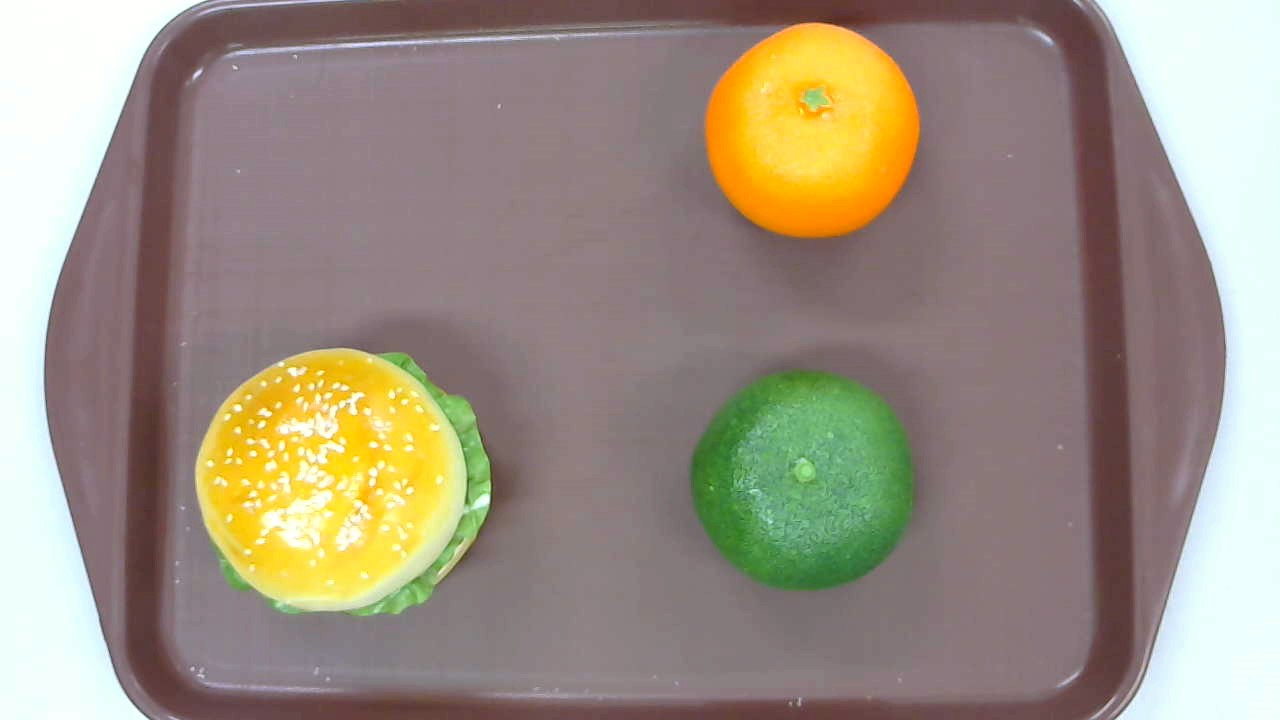green orange: (692, 370, 915, 591)
hamburger: (195, 347, 492, 619)
orange: (703, 22, 921, 239)
